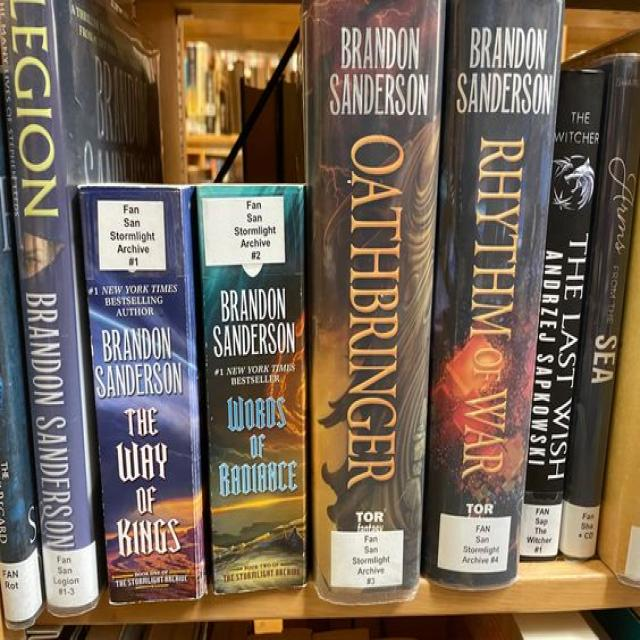book: (308, 0, 447, 602), (423, 0, 564, 587), (0, 0, 100, 616), (79, 184, 198, 607), (198, 186, 304, 596), (519, 66, 605, 560), (561, 55, 640, 559)
